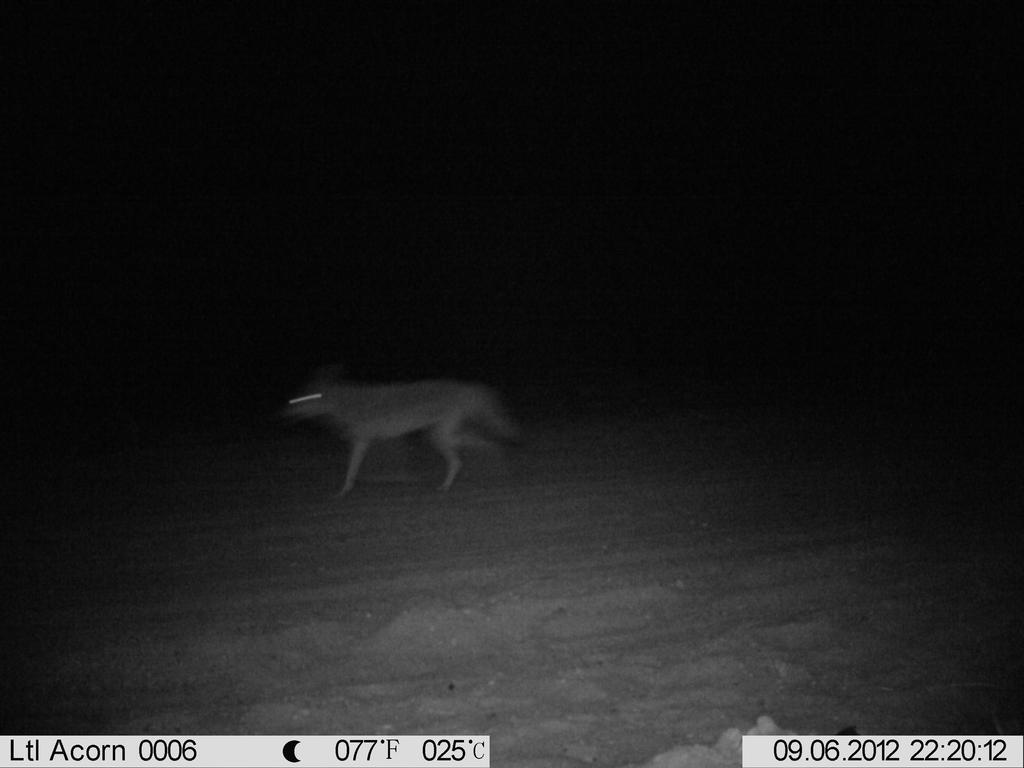coyote: (264, 367, 534, 510)
